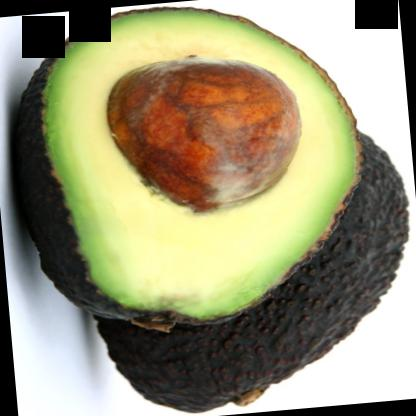avocado: (0, 0, 374, 338), (77, 126, 415, 415)
